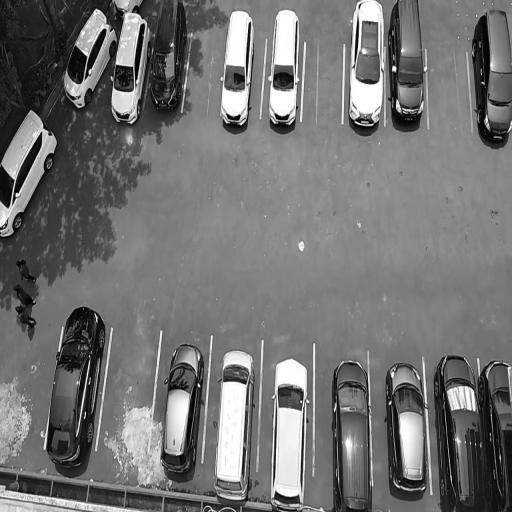Car: (46, 299, 104, 472), (432, 346, 484, 512), (0, 104, 58, 246), (383, 357, 430, 509), (268, 351, 312, 512), (212, 337, 254, 501), (60, 7, 120, 116), (329, 349, 369, 512), (160, 334, 203, 480), (347, 0, 388, 142), (388, 0, 429, 136), (472, 6, 512, 145), (268, 0, 307, 141), (482, 347, 512, 512), (218, 0, 256, 130), (110, 16, 152, 126), (149, 0, 183, 114)
Space Available: (112, 325, 148, 464), (431, 38, 467, 154), (308, 27, 342, 132), (192, 12, 221, 113)
